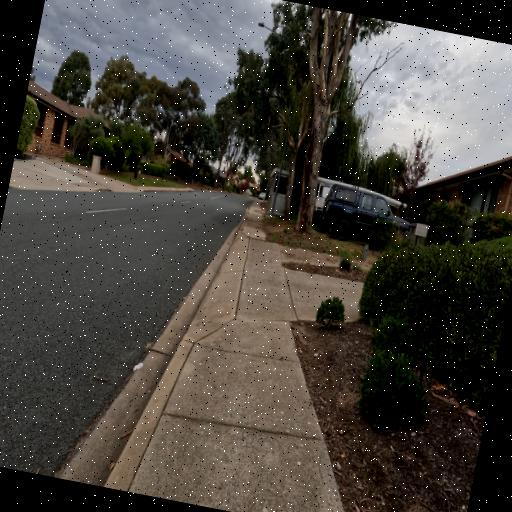kerb_cut: (184, 230, 296, 334)
